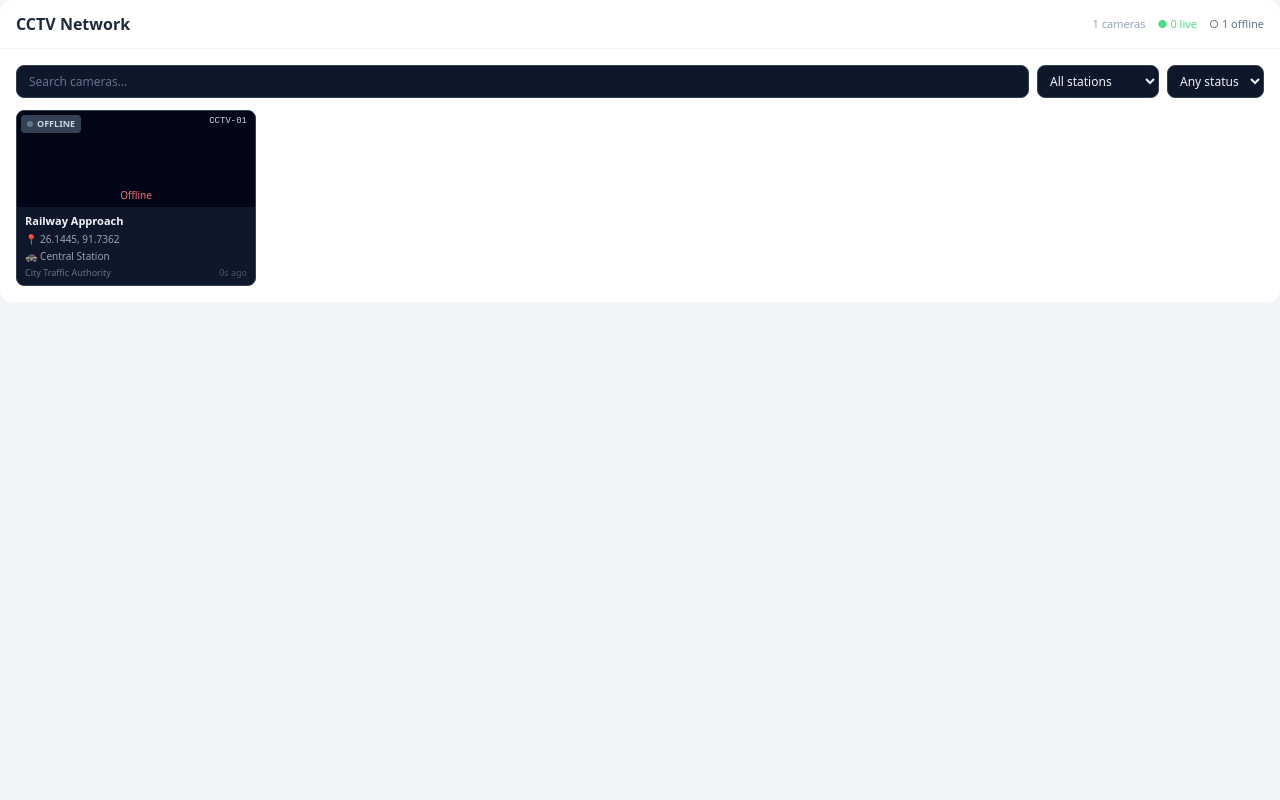
Test: CctvNetworkPanel › offers a retry on an offline camera and reflects a recovered feed
Expected: the text "Offline" is shown, [120, 188, 152, 201]
Click the text "Railway Approach": (74, 220) [25, 213, 123, 228]
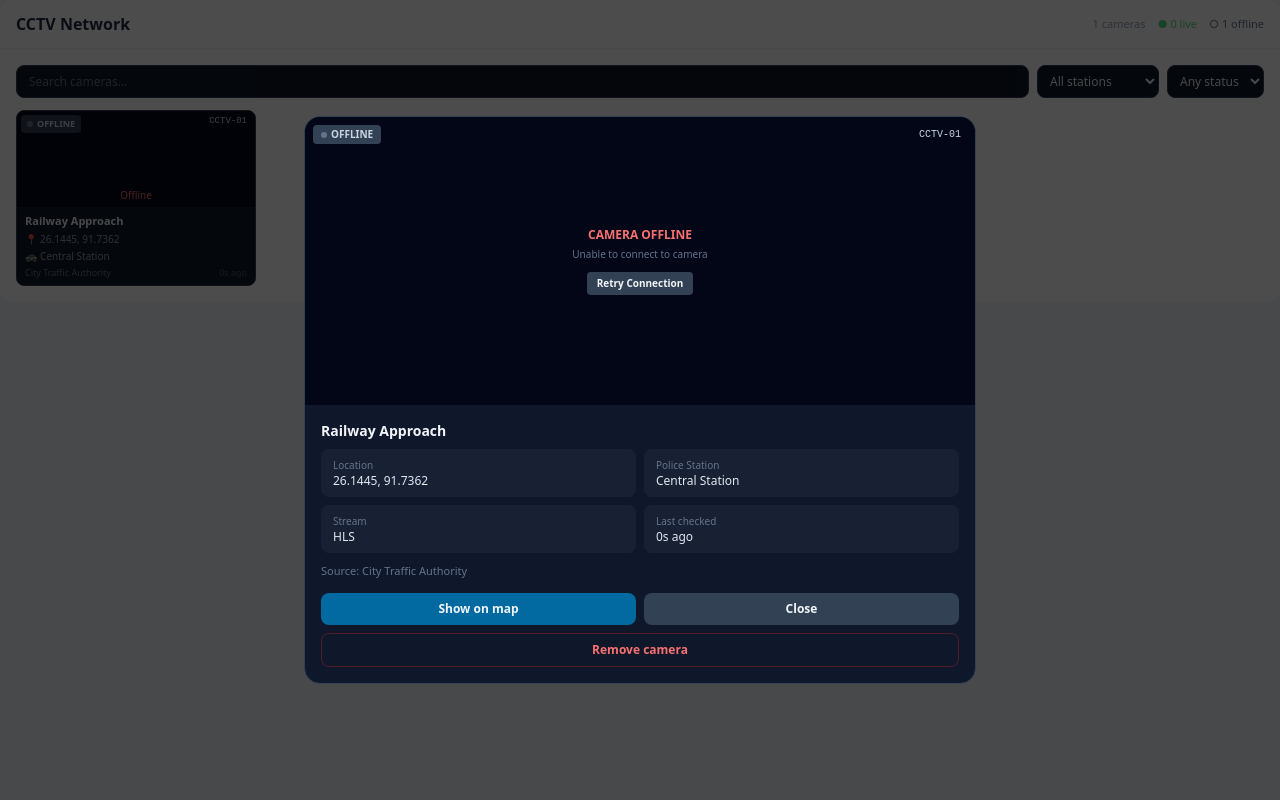
Now the text "CAMERA OFFLINE" is shown, box [588, 227, 692, 243]
Click the button "Retry Connection": (640, 284) [587, 272, 693, 295]
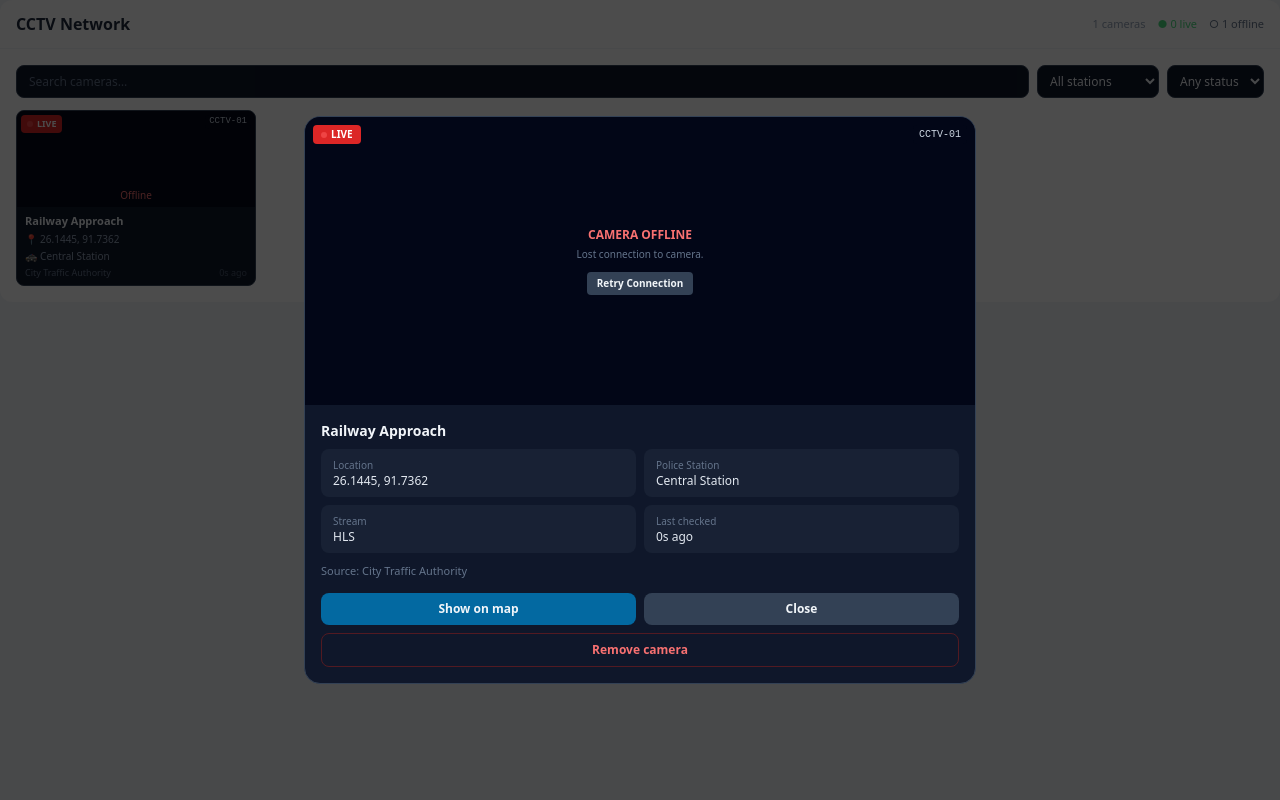
Now the text "LIVE" is shown, box [21, 115, 62, 132]
